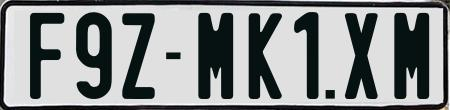1: (292, 12, 317, 105)
9: (73, 10, 111, 97)
F: (30, 11, 67, 98)
K: (247, 11, 283, 101)
M: (393, 10, 433, 102), (197, 10, 238, 98)
X: (343, 11, 378, 98)
Z: (120, 10, 157, 101)
